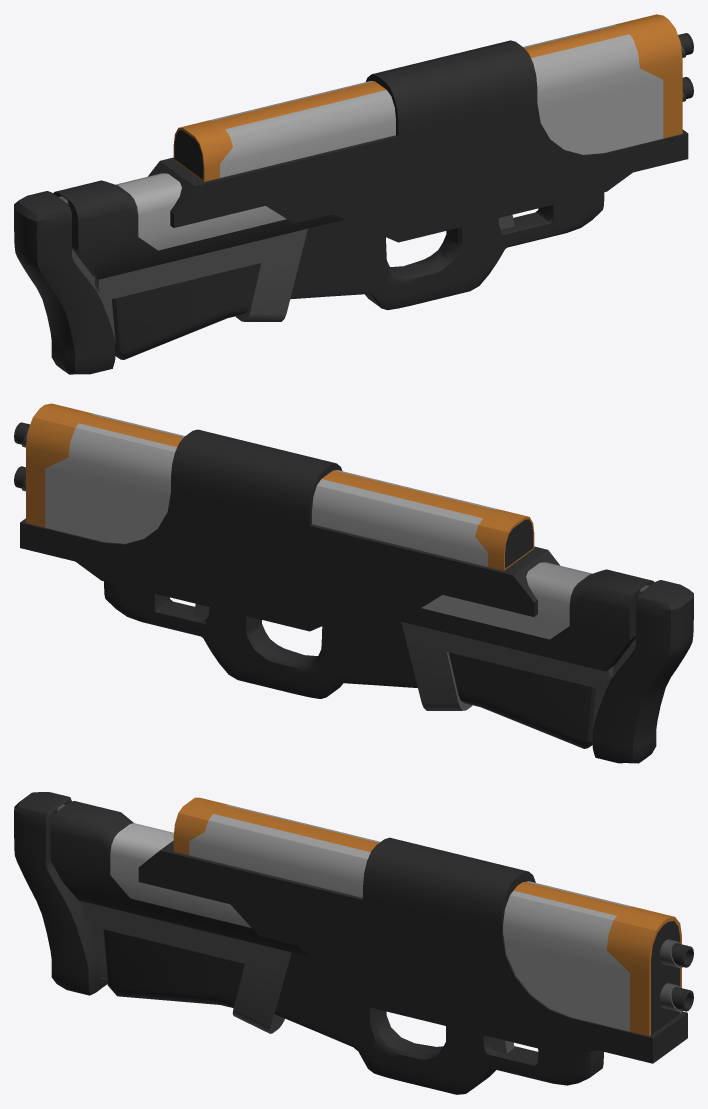
Rendered from Scifi Assault Rifle-RGtBoJNn3N.glb.
The picture shows the model from 3 angles, top to bottom: view 1: azimuth 30°, elevation 25°; view 2: azimuth 150°, elevation 25°; view 3: azimuth 330°, elevation 25°; orthographic projection.
Parts seen in each view (by area): view 1: AR_2; view 2: AR_2; view 3: AR_2.
Boxes of the visible parts, x1,y1,x2,y2 form: AR_2: (14,14,693,374); AR_2: (14,403,693,763); AR_2: (14,792,693,1094).
Bounding box in the file's own units: 1.49 × 0.4864 × 0.1356.
